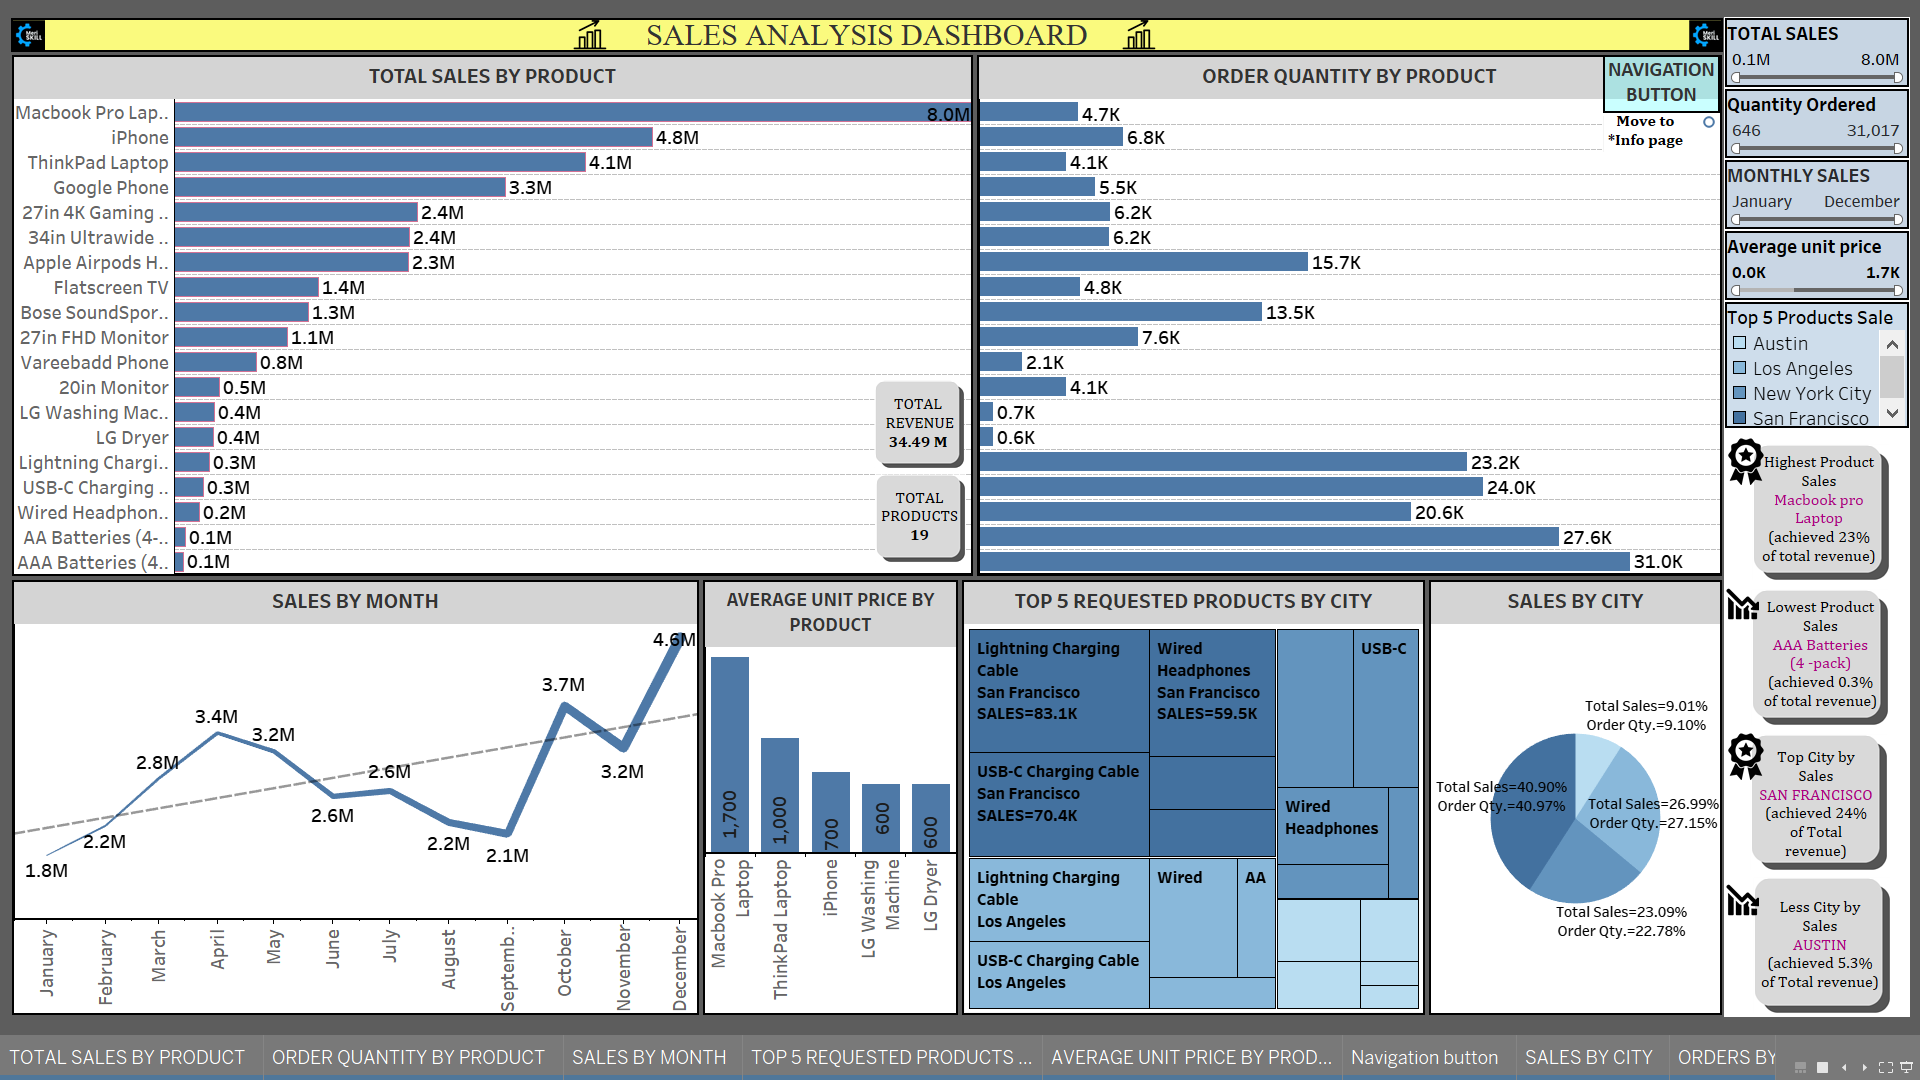

Layout of this report page (visuals, bound fields, positions):
{"tool":"tableau","page":{"name":"Dashboard 1","canvas":[1900,1000],"ordinal":0},"visuals":[{"type":"title","box":[0,0,1714.2,36]},{"type":"filter","title":"TOTAL SALES BY PRODUCT","param":"[federated.1816fb50i7boms1380uat0ey0apb].[sum:Sales:qk]","box":[1714.2,0,185.8,71]},{"type":"image","param":"C:/Users/dell/Downloads/MeriSKILL intenship/Dataset MeriSKILL Project-1/meriskil","box":[2,3,49,30]},{"type":"image","param":"C:/Users/dell/Downloads/MeriSKILL intenship/Dataset MeriSKILL Project-1/meriskil","box":[1679,3,49,30]},{"type":"worksheet","title":"TOTAL SALES BY PRODUCT","mark":"Automatic","rows":["Product"],"cols":["Sales"],"box":[0,36,964.8,525.2]},{"type":"worksheet","title":"ORDER QUANTITY BY PRODUCT","mark":"Automatic","rows":["Product"],"cols":["Quantity Ordered"],"box":[964.8,36,749.4,525.2]},{"type":"worksheet","title":"Navigation button","mark":"Automatic","rows":["Hour"],"cols":["Hour"],"box":[1593,38,117,97]},{"type":"filter","title":"ORDER QUANTITY BY PRODUCT","param":"[federated.1816fb50i7boms1380uat0ey0apb].[sum:Quantity Ordered:qk]","box":[1714.2,71,185.8,71]},{"type":"text","box":[1574,88,123,50]},{"type":"filter","title":"SALES BY MONTH","param":"[federated.1816fb50i7boms1380uat0ey0apb].[none:Month:qk]","box":[1714.2,142,185.8,71]},{"type":"filter","title":"AVERAGE UNIT PRICE BY PRODUCT","param":"[federated.1816fb50i7boms1380uat0ey0apb].[usr:Calculation_25051340326268937:qk]","box":[1714.2,213,185.8,71]},{"type":"legend","title":"TOP 5 REQUESTED PRODUCTS BY CITY","param":"[federated.1816fb50i7boms1380uat0ey0apb].[City (group)]","box":[1714.2,284,185.8,128]},{"type":"text","box":[851,363,114,85]},{"type":"image","param":"C:/Users/dell/Downloads/MeriSKILL intenship/Dataset MeriSKILL Project-1/White Gr","box":[864,363,90,90]},{"type":"image","param":"C:/Users/dell/Downloads/MeriSKILL intenship/Dataset MeriSKILL Project-1/band.png","box":[1712,421,47,51]},{"type":"text","box":[1743,424,132,136]},{"type":"image","param":"C:/Users/dell/Downloads/MeriSKILL intenship/Dataset MeriSKILL Project-1/White Gr","box":[1742,427,155,136]},{"type":"text","box":[857,455,105,88]},{"type":"image","param":"C:/Users/dell/Downloads/MeriSKILL intenship/Dataset MeriSKILL Project-1/White Gr","box":[865,457,90,90]},{"type":"worksheet","title":"SALES BY MONTH","mark":"Automatic","rows":["Sales"],"cols":["Month"],"box":[0,561.2,691,438.8]},{"type":"worksheet","title":"AVERAGE UNIT PRICE BY PRODUCT","mark":"Automatic","rows":["Calculation_25051340326268937"],"cols":["Product"],"box":[691,561.2,259,438.8]},{"type":"worksheet","title":"TOP 5 REQUESTED PRODUCTS BY CITY","mark":"Automatic","box":[950,561.2,467,438.8]},{"type":"worksheet","title":"SALES BY CITY","mark":"Pie","box":[1417,561.2,297.2,438.8]},{"type":"text","box":[1739,569,143,136]},{"type":"image","param":"C:/Users/dell/Downloads/MeriSKILL intenship/Dataset MeriSKILL Project-1/loss.png","box":[1716,570,38,33]},{"type":"image","param":"C:/Users/dell/Downloads/MeriSKILL intenship/Dataset MeriSKILL Project-1/White Gr","box":[1741,572,155,136]},{"type":"image","param":"C:/Users/dell/Downloads/MeriSKILL intenship/Dataset MeriSKILL Project-1/band.png","box":[1712,716,47,51]},{"type":"image","param":"C:/Users/dell/Downloads/MeriSKILL intenship/Dataset MeriSKILL Project-1/White Gr","box":[1740,717,155,136]},{"type":"text","box":[1744,721,124,132]},{"type":"image","param":"C:/Users/dell/Downloads/MeriSKILL intenship/Dataset MeriSKILL Project-1/White Gr","box":[1743,860,155,136]},{"type":"image","param":"C:/Users/dell/Downloads/MeriSKILL intenship/Dataset MeriSKILL Project-1/loss.png","box":[1716,866,38,33]}]}

Visuals, with their boxes in screenshot pixels (x1, y1, x2, y2):
title: pyautogui.locateOnScreen(10, 15, 1718, 51)
"TOTAL SALES BY PRODUCT" filter: pyautogui.locateOnScreen(1718, 15, 1903, 86)
image: pyautogui.locateOnScreen(12, 18, 61, 48)
image: pyautogui.locateOnScreen(1683, 18, 1732, 48)
"TOTAL SALES BY PRODUCT" worksheet: pyautogui.locateOnScreen(10, 51, 971, 574)
"ORDER QUANTITY BY PRODUCT" worksheet: pyautogui.locateOnScreen(971, 51, 1718, 574)
"Navigation button" worksheet: pyautogui.locateOnScreen(1598, 53, 1714, 150)
"ORDER QUANTITY BY PRODUCT" filter: pyautogui.locateOnScreen(1718, 86, 1903, 157)
text: pyautogui.locateOnScreen(1579, 103, 1701, 153)
"SALES BY MONTH" filter: pyautogui.locateOnScreen(1718, 157, 1903, 227)
"AVERAGE UNIT PRICE BY PRODUCT" filter: pyautogui.locateOnScreen(1718, 227, 1903, 298)
"TOP 5 REQUESTED PRODUCTS BY CITY" legend: pyautogui.locateOnScreen(1718, 298, 1903, 426)
text: pyautogui.locateOnScreen(858, 377, 972, 461)
image: pyautogui.locateOnScreen(871, 377, 961, 466)
image: pyautogui.locateOnScreen(1716, 435, 1763, 485)
text: pyautogui.locateOnScreen(1747, 438, 1879, 573)
image: pyautogui.locateOnScreen(1746, 441, 1900, 576)
text: pyautogui.locateOnScreen(864, 468, 969, 556)
image: pyautogui.locateOnScreen(872, 470, 962, 560)
"SALES BY MONTH" worksheet: pyautogui.locateOnScreen(10, 574, 699, 1012)
"AVERAGE UNIT PRICE BY PRODUCT" worksheet: pyautogui.locateOnScreen(699, 574, 957, 1012)
"TOP 5 REQUESTED PRODUCTS BY CITY" worksheet: pyautogui.locateOnScreen(957, 574, 1422, 1012)
"SALES BY CITY" worksheet (Pie marks): pyautogui.locateOnScreen(1422, 574, 1718, 1012)
text: pyautogui.locateOnScreen(1743, 582, 1886, 718)
image: pyautogui.locateOnScreen(1720, 583, 1758, 616)
image: pyautogui.locateOnScreen(1745, 585, 1899, 721)
image: pyautogui.locateOnScreen(1716, 729, 1763, 779)
image: pyautogui.locateOnScreen(1744, 730, 1898, 865)
text: pyautogui.locateOnScreen(1748, 734, 1872, 865)
image: pyautogui.locateOnScreen(1747, 872, 1901, 1008)
image: pyautogui.locateOnScreen(1720, 878, 1758, 911)
